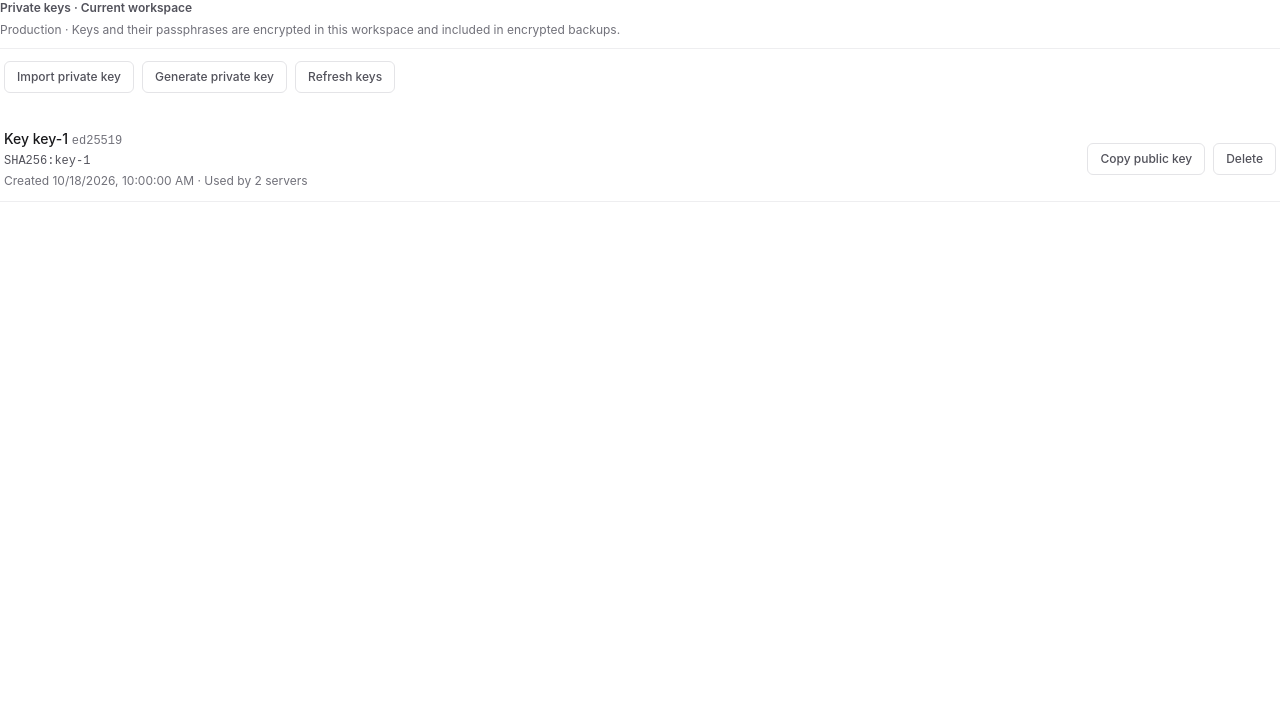
Test: current workspace private keys › R42 requires another file choice after a rejected import request
Click the button "Import private key".
click(69, 76)  # box [4,60,134,92]
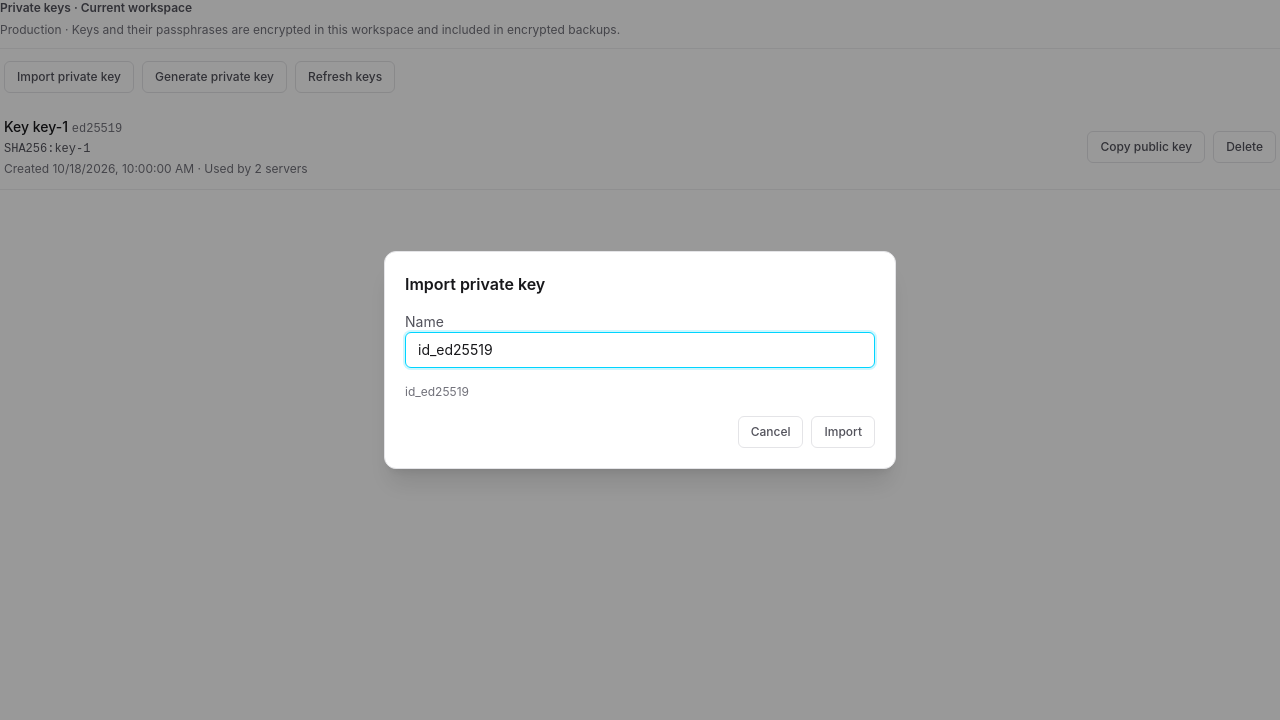
Submit the form, box [405,312,875,448]
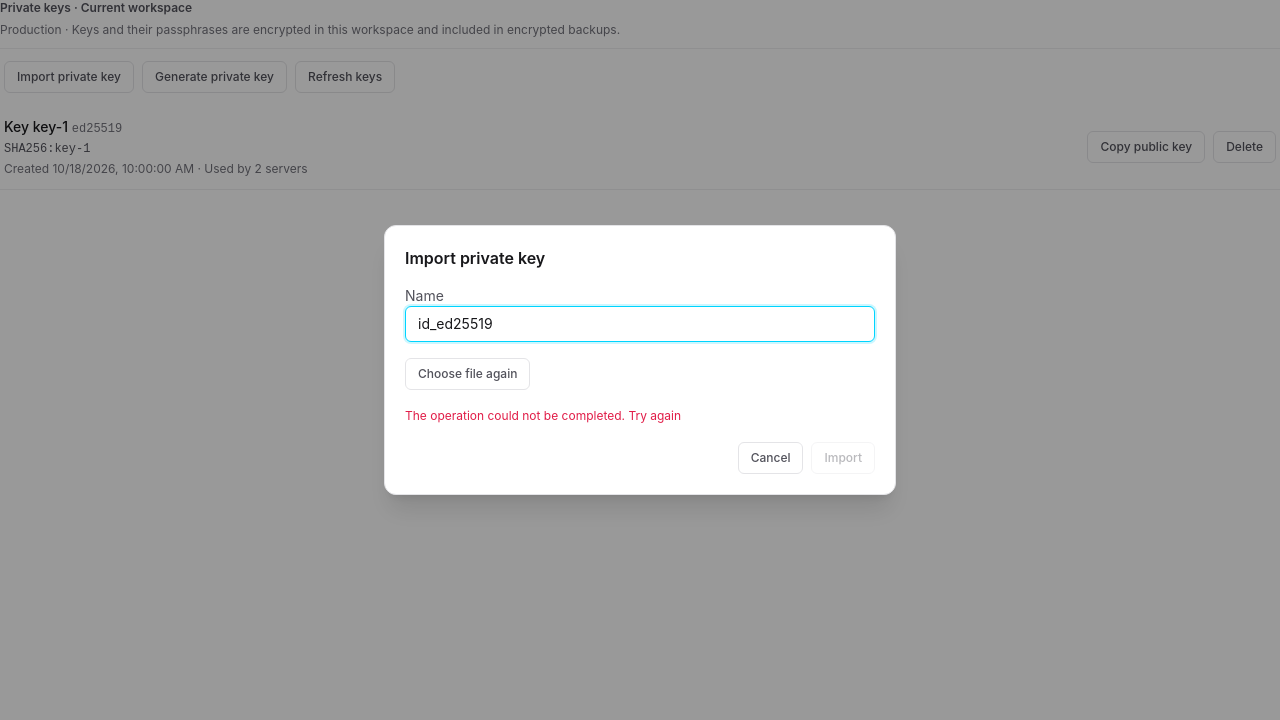
Expected: the button "Choose file again" is shown, [405,358,530,390]
Expected: the button "Import" is disabled, [812,442,875,474]
Expected: the text "id_ed25519" is gone
